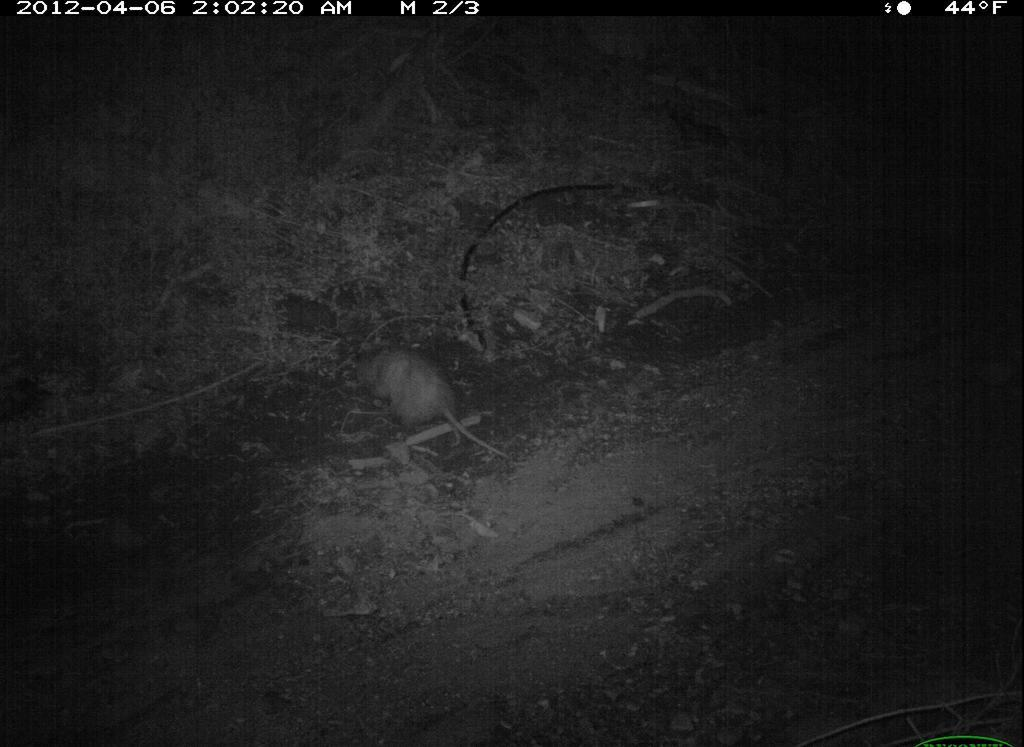opossum: (350, 341, 510, 466)
